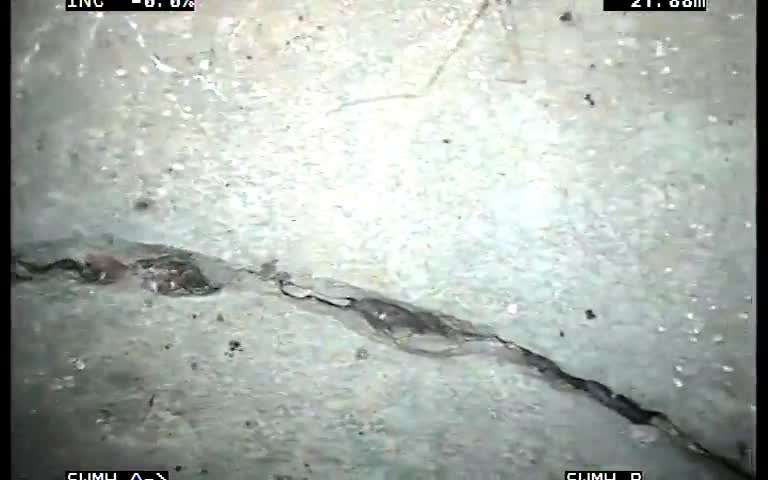Crack: (24, 178, 697, 447)
